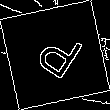P_SW: (25, 23, 85, 87)
